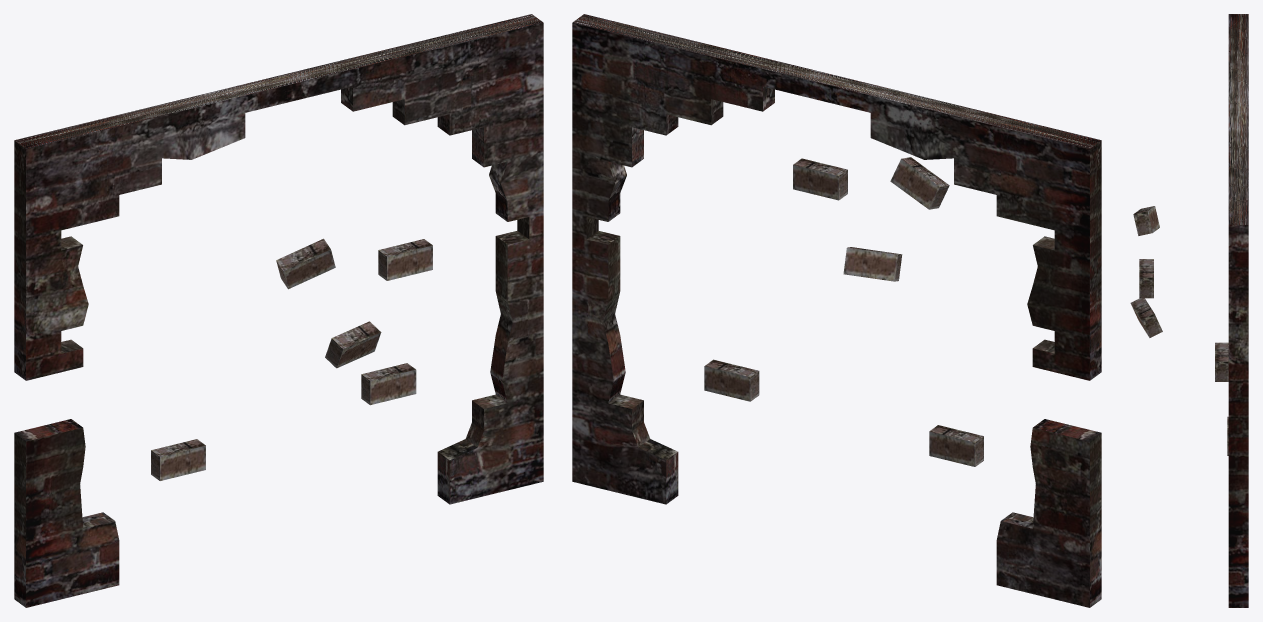
The model's file is mining_room_wall_broken.dae.
3 renders of one model, left to right at view 1: azimuth 30°, elevation 25°; view 2: azimuth 150°, elevation 25°; view 3: azimuth 270°, elevation 25°, orthographic. The views are drawn at different scales.
Parts seen in each view (by area): view 1: wall, piece4, piece1, piece5, piece2, piece3; view 2: wall, piece4, piece2, piece1, piece5, piece3; view 3: wall, piece3, piece2, piece1, piece5.
Boxes of the visible parts, x1,y1,x2,y2 form: wall: (14,14,543,607); piece4: (361,363,416,405); piece1: (378,239,432,280); piece5: (151,439,205,480); piece2: (276,238,335,289); piece3: (325,321,381,368); wall: (572,14,1101,607); piece4: (704,359,759,401); piece2: (890,157,949,209); piece1: (793,158,847,200); piece5: (929,425,983,466); piece3: (843,247,902,281); wall: (1228,14,1248,607); piece3: (1130,298,1162,337); piece2: (1133,206,1159,235); piece1: (1139,259,1153,298); piece5: (1215,342,1228,381).
Size of what is drawn, in the model's own units: 3.29 by 2.78 by 0.7781.
